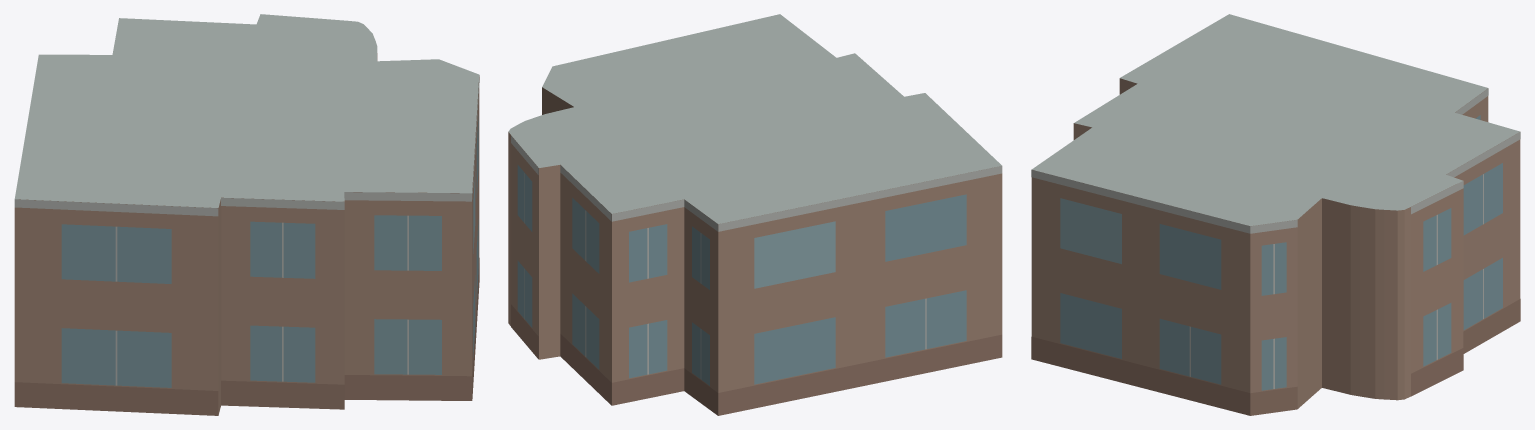
The model's file is survey-upis-32896936.glb.
3 renders of one model, left to right at view 1: azimuth 30°, elevation 25°; view 2: azimuth 150°, elevation 25°; view 3: azimuth 270°, elevation 25°, orthographic. The views are drawn at different scales.
Visible parts, largest first — view 1: survey-upis-32896936.tmp; view 2: survey-upis-32896936.tmp; view 3: survey-upis-32896936.tmp.
Part boxes in pixels (box(x1,y1,x2,y2)): survey-upis-32896936.tmp: box(14, 14, 479, 415); survey-upis-32896936.tmp: box(508, 14, 1002, 415); survey-upis-32896936.tmp: box(1031, 14, 1520, 415).
Bounding box in the file's own units: 14.64 × 6.1 × 14.26.
